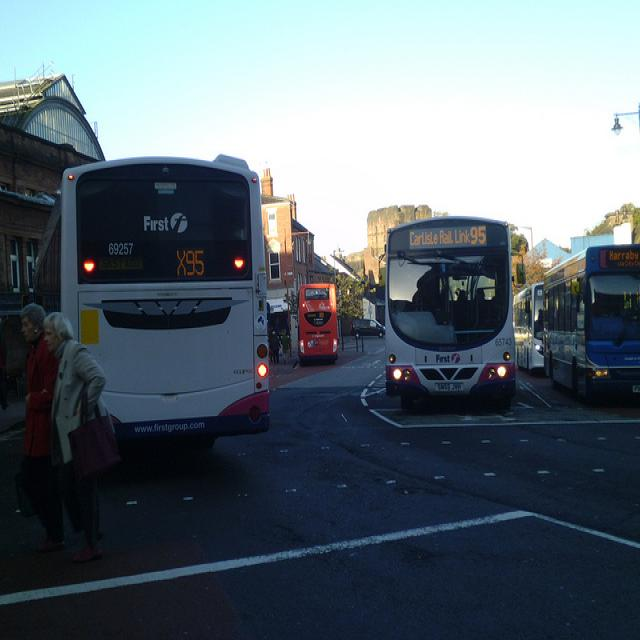Vehicle: (32, 154, 270, 446), (386, 218, 516, 412), (537, 241, 640, 408), (298, 284, 337, 366), (512, 282, 544, 374), (351, 318, 386, 339)
